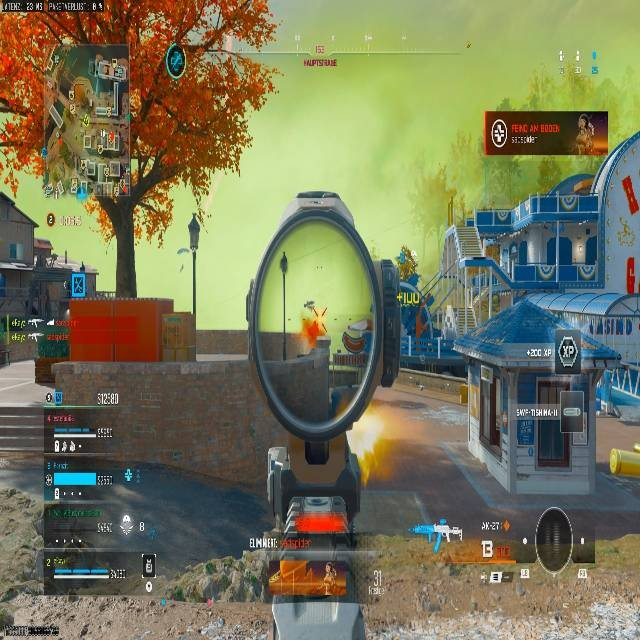head: (305, 300, 315, 309)
player: (301, 299, 327, 350)
